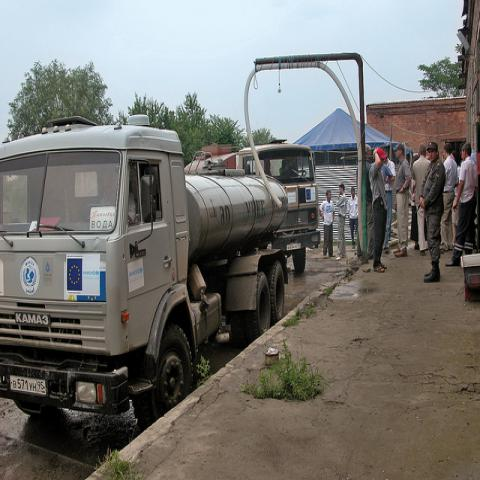truck: (0, 114, 290, 431), (236, 146, 320, 275)
